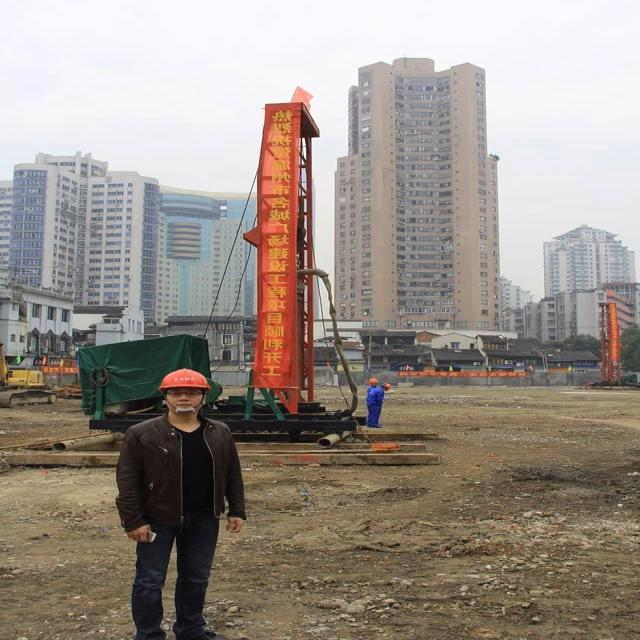face_nomask: (164, 386, 200, 418)
hand_noglove: (126, 525, 167, 547), (221, 515, 255, 536)
head_helmet: (157, 369, 213, 391), (367, 378, 380, 383), (383, 383, 391, 389)
person: (126, 371, 256, 638), (364, 378, 384, 426)
